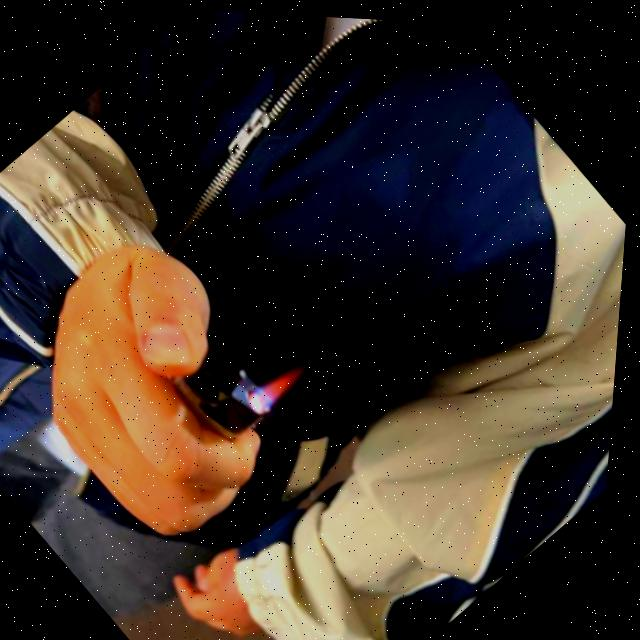Fire: (260, 359, 310, 406)
